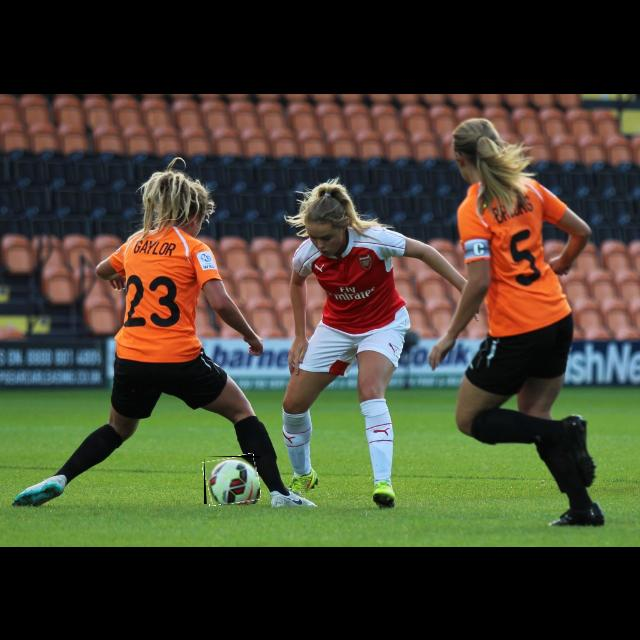Football: (204, 456, 260, 504)
